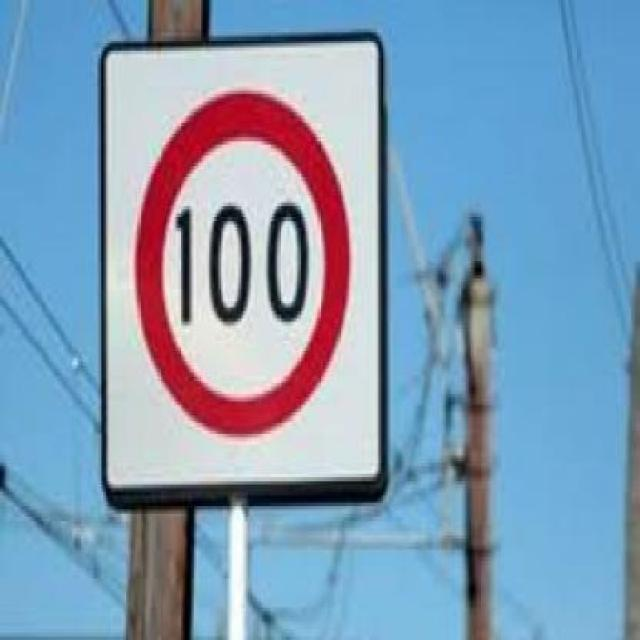forb_speed_over_100: (142, 95, 349, 439)
